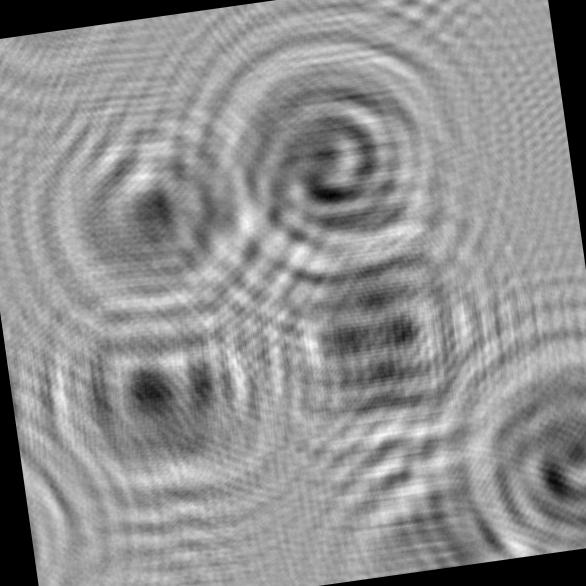F: (31, 253, 334, 538)
G: (205, 16, 480, 304), (435, 321, 586, 564)
H: (234, 210, 536, 492)
I: (312, 404, 578, 584)
J: (0, 71, 306, 370)
